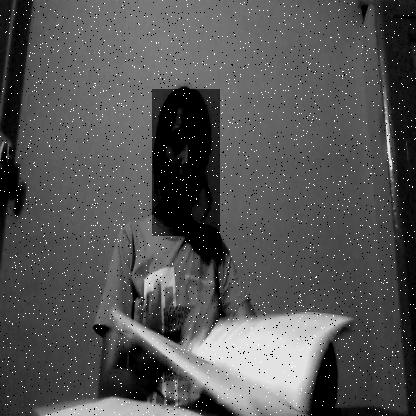Normal: (152, 89, 220, 236)
